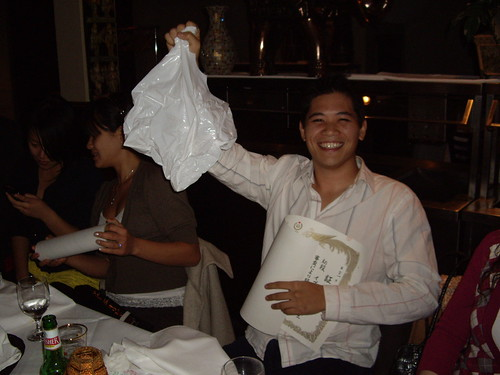plastic bag: (122, 25, 239, 191)
